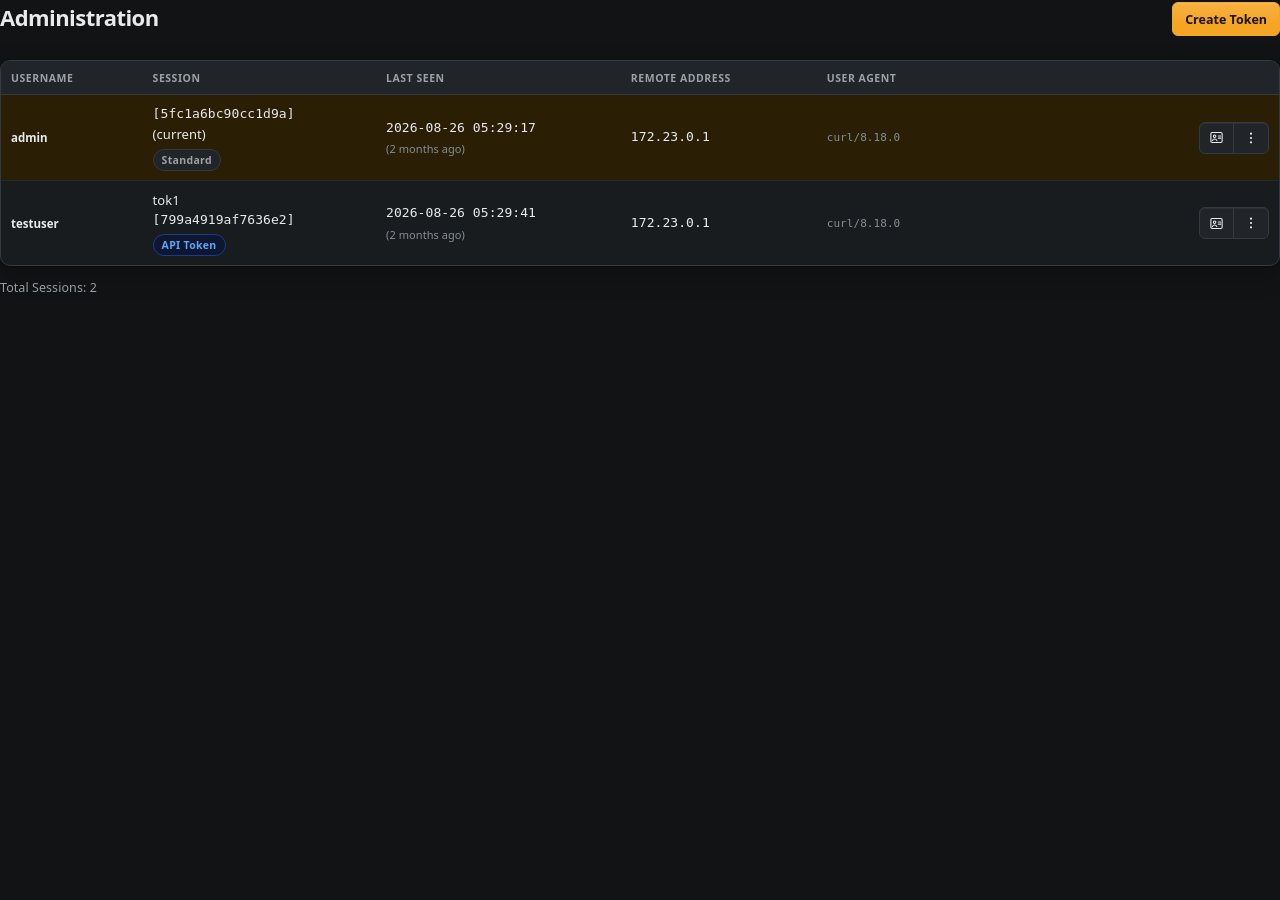
it: Sessions: "Create Token" › it creates the token and shows user, name and token
Step 1. Click the button "Create Token" → x=1226, y=19, box 1172,2 -> 1279,36
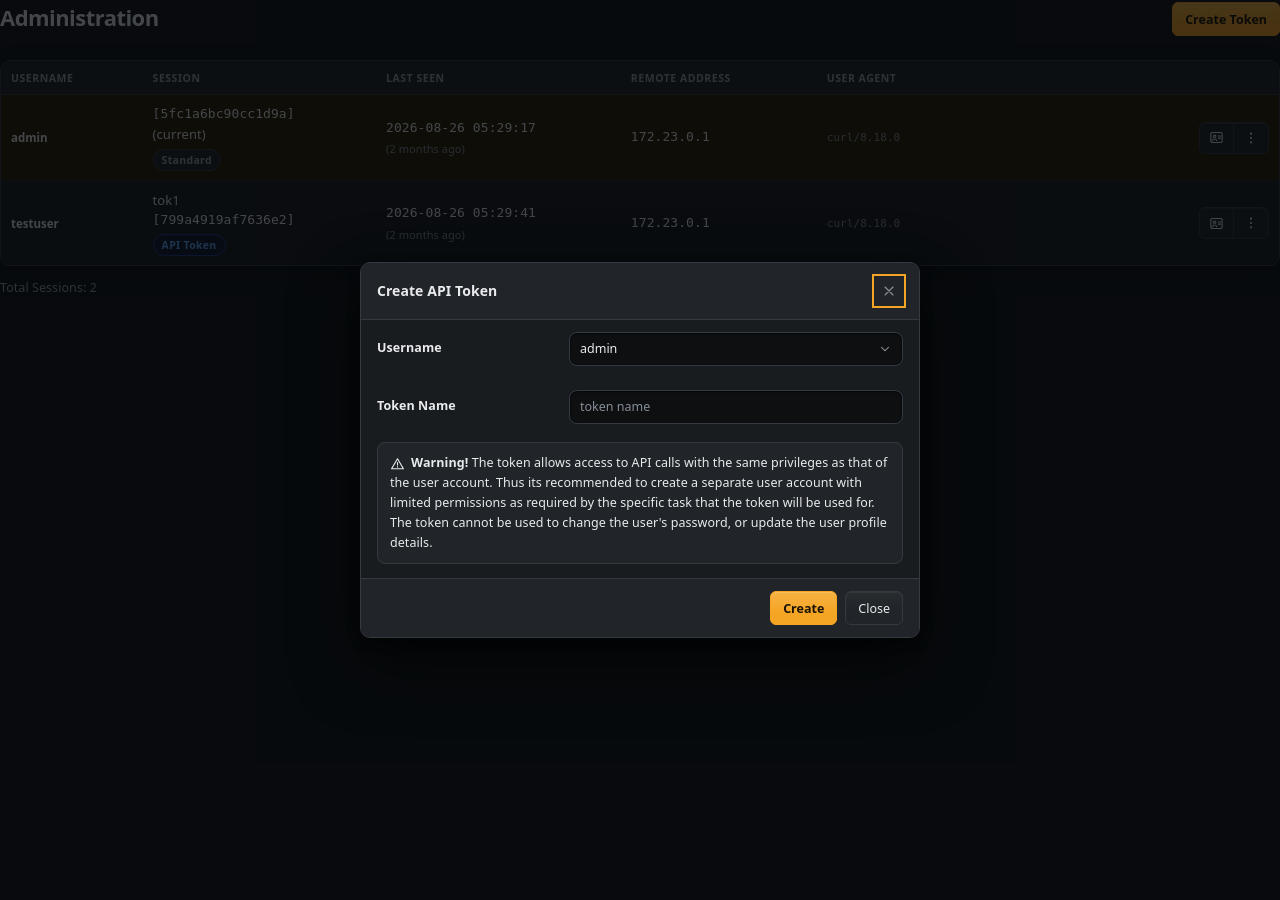
Step 2. Type "orbiter" into the field labelled "Token Name" → x=736, y=407, box 569,390 -> 903,424
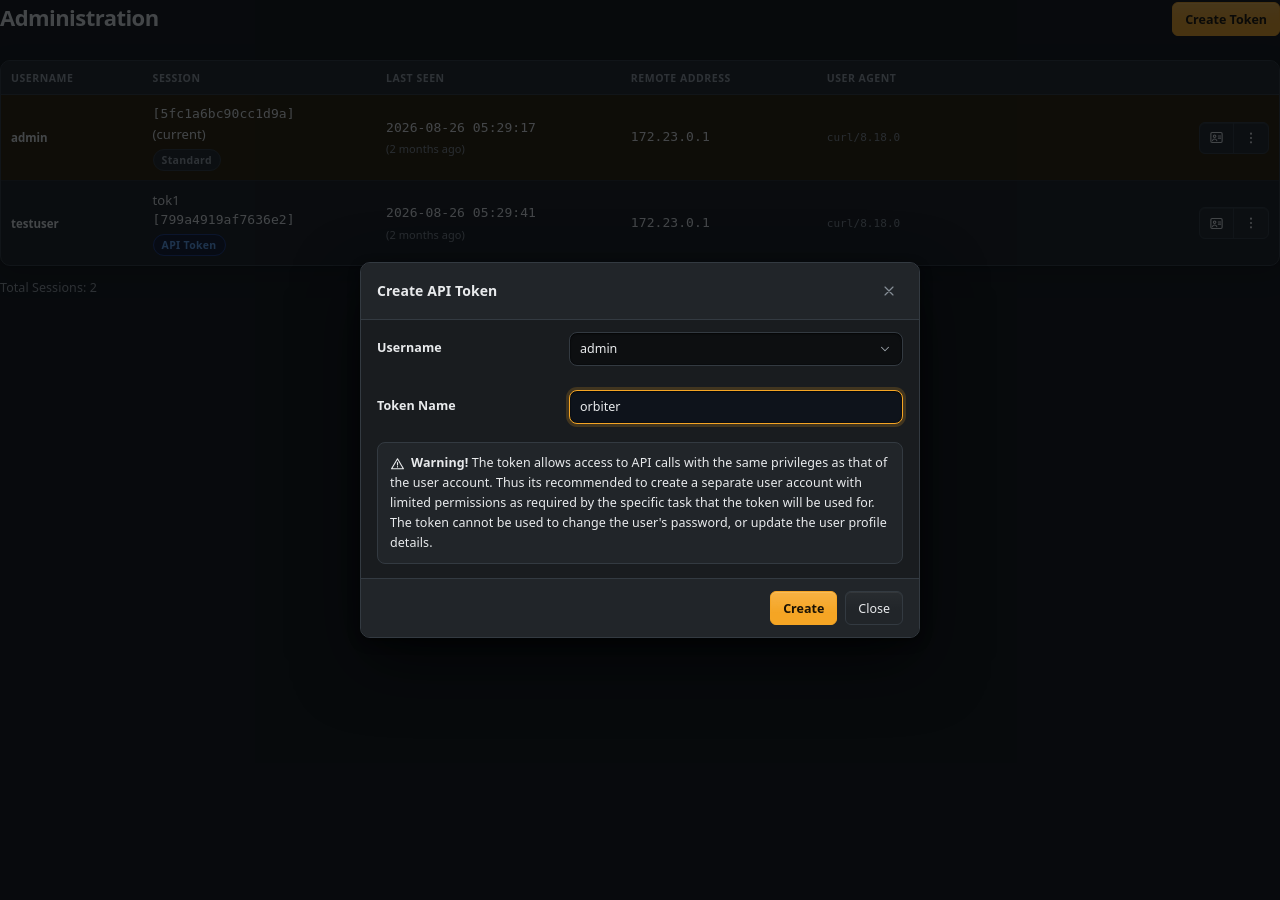
Step 3. Click the dropdown named "Username" → x=599, y=348, box 569,332 -> 903,366
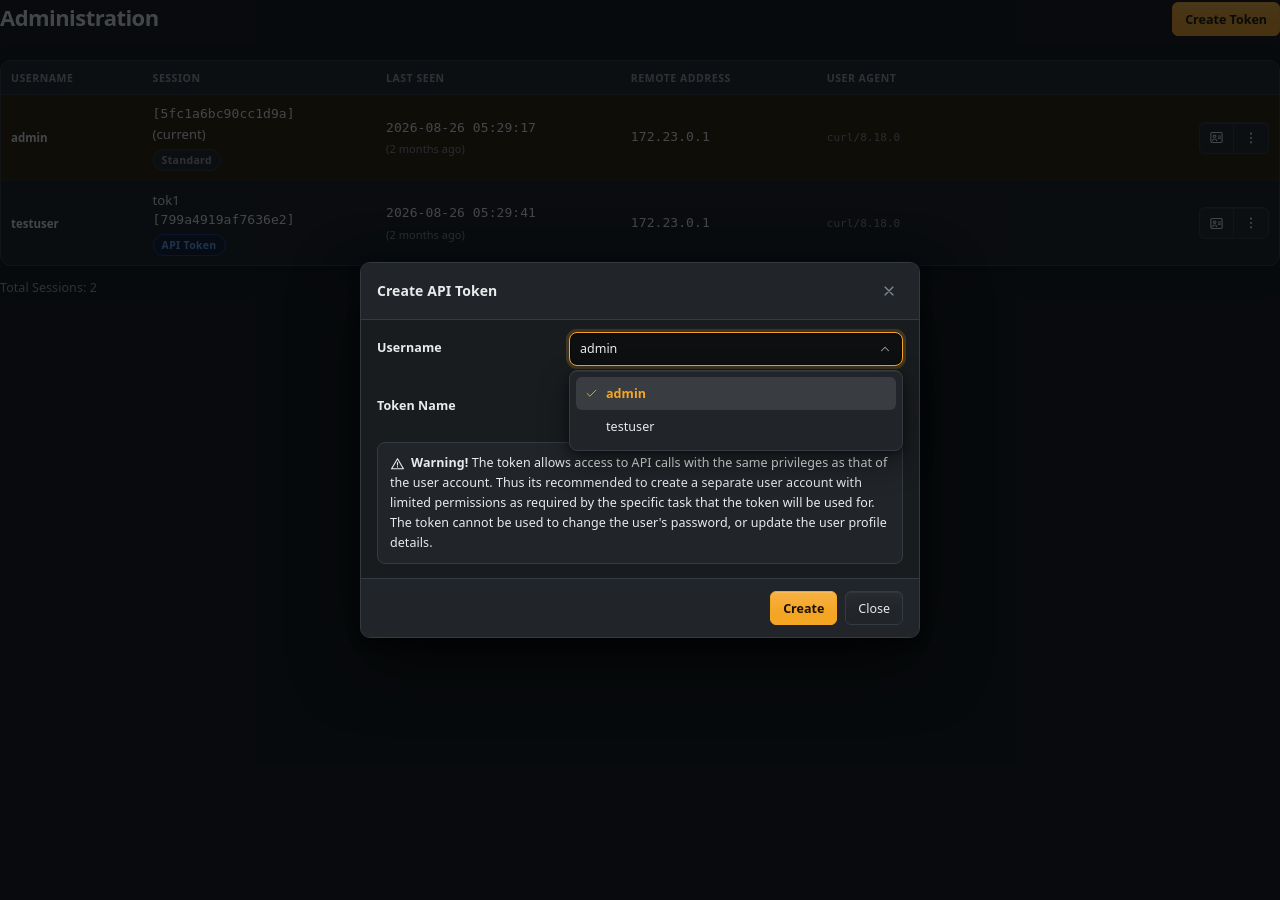
Step 4. Click the option "testuser" → x=630, y=427, box 606,418 -> 654,435
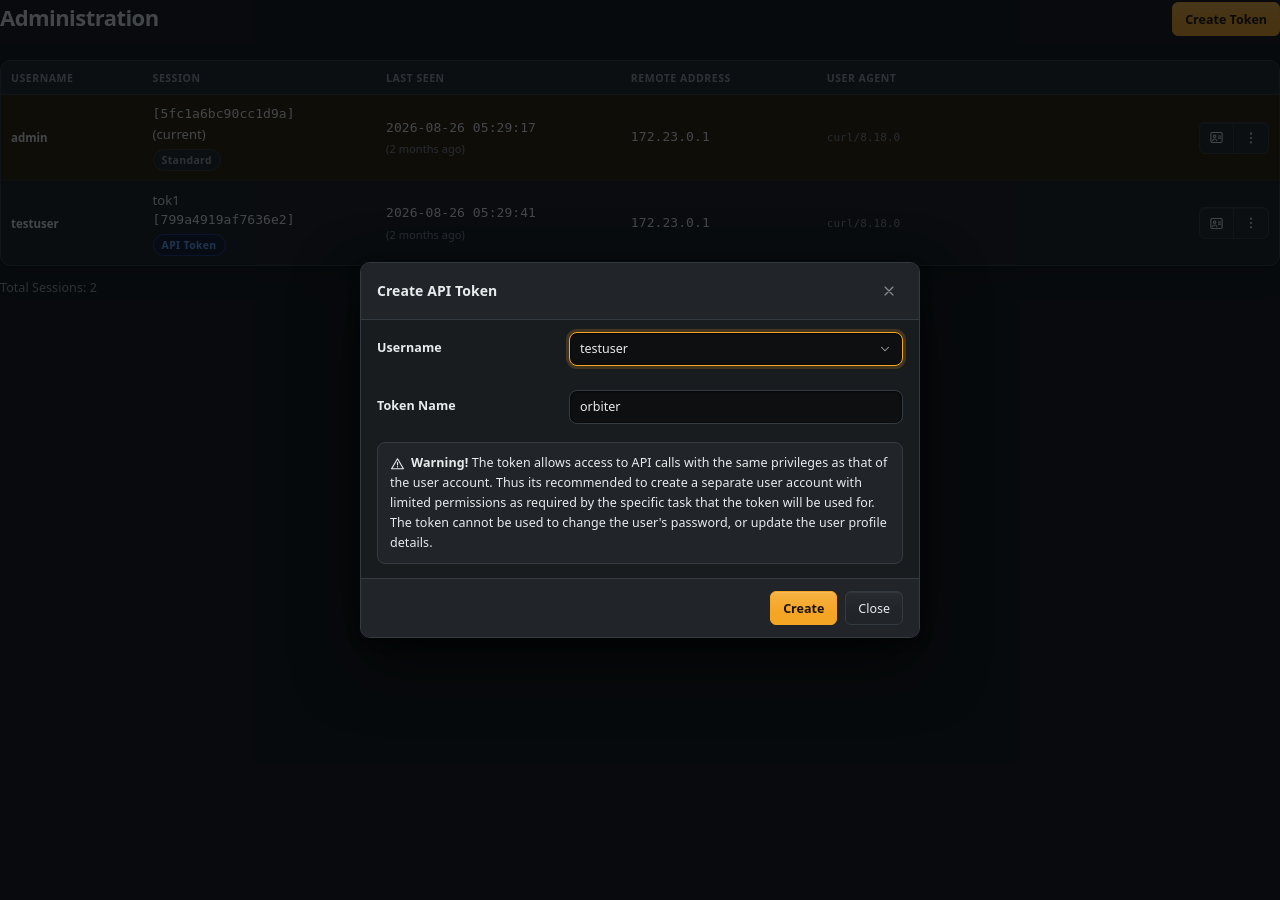
Step 5. Click the button "Create" → x=804, y=608, box 770,591 -> 837,625
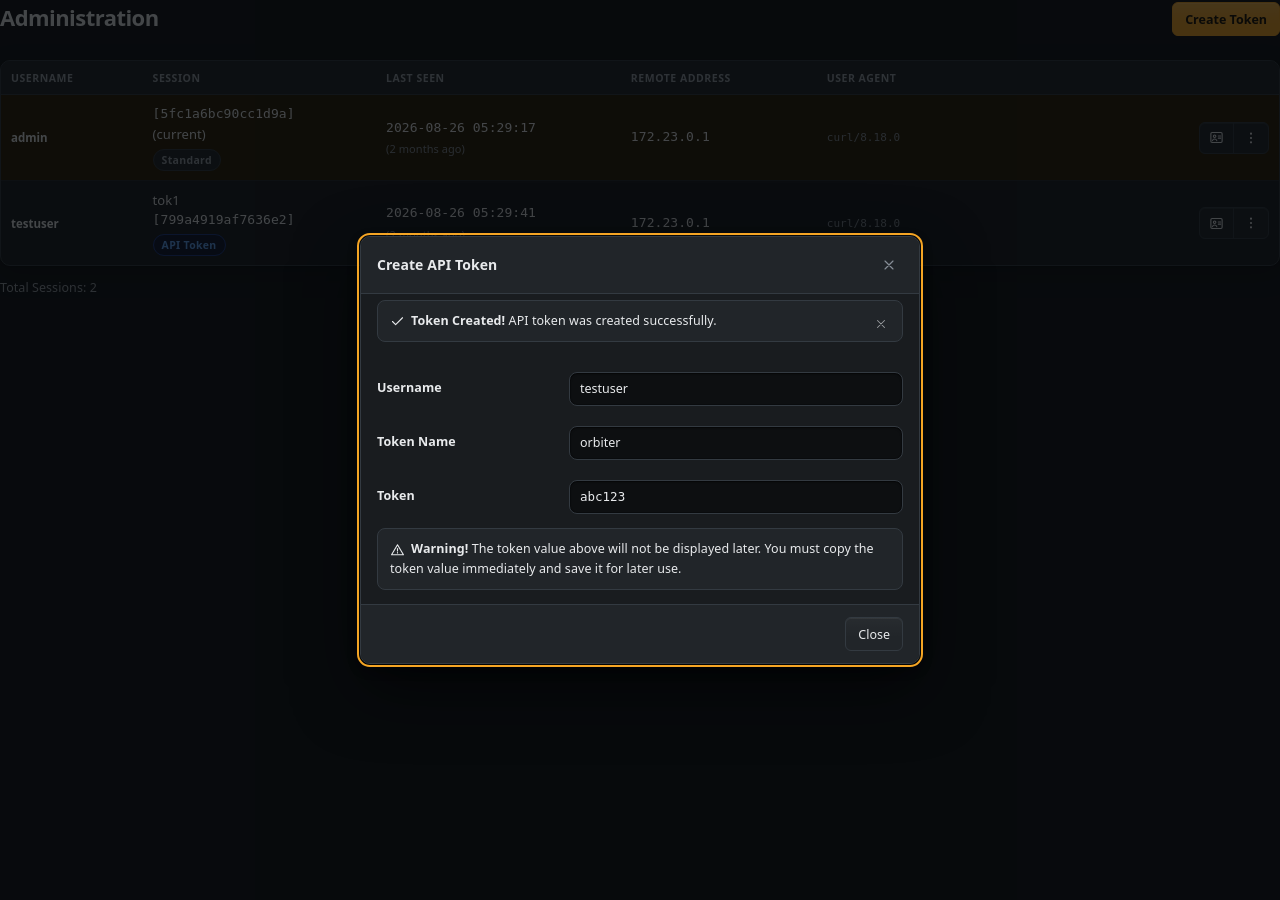
Expected: the text "API token was created successfully." is shown, 509,312 -> 717,329
Expected: the field labelled "Token" holds "abc123", 569,480 -> 903,514
